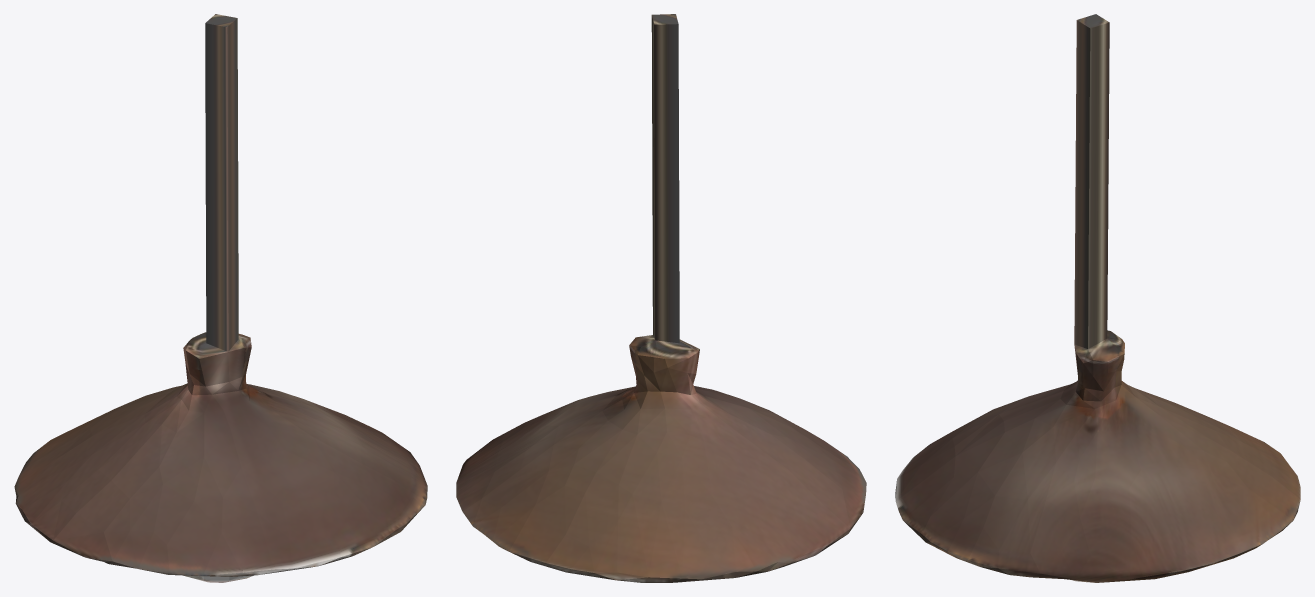
File: brass-pendant-light.glb
3 renders of one model, left to right at view 1: azimuth 30°, elevation 25°; view 2: azimuth 150°, elevation 25°; view 3: azimuth 270°, elevation 25°, orthographic.
Visible parts, largest first — view 1: lamp; view 2: lamp; view 3: lamp.
Boxes of the visible parts, bbox=[...] form: lamp: bbox=[14, 14, 427, 582]; lamp: bbox=[456, 14, 866, 582]; lamp: bbox=[895, 14, 1300, 582].
Size of what is drawn, in the model's own units: 1.85 by 2.73 by 1.81.
1 material, 1 textured.
